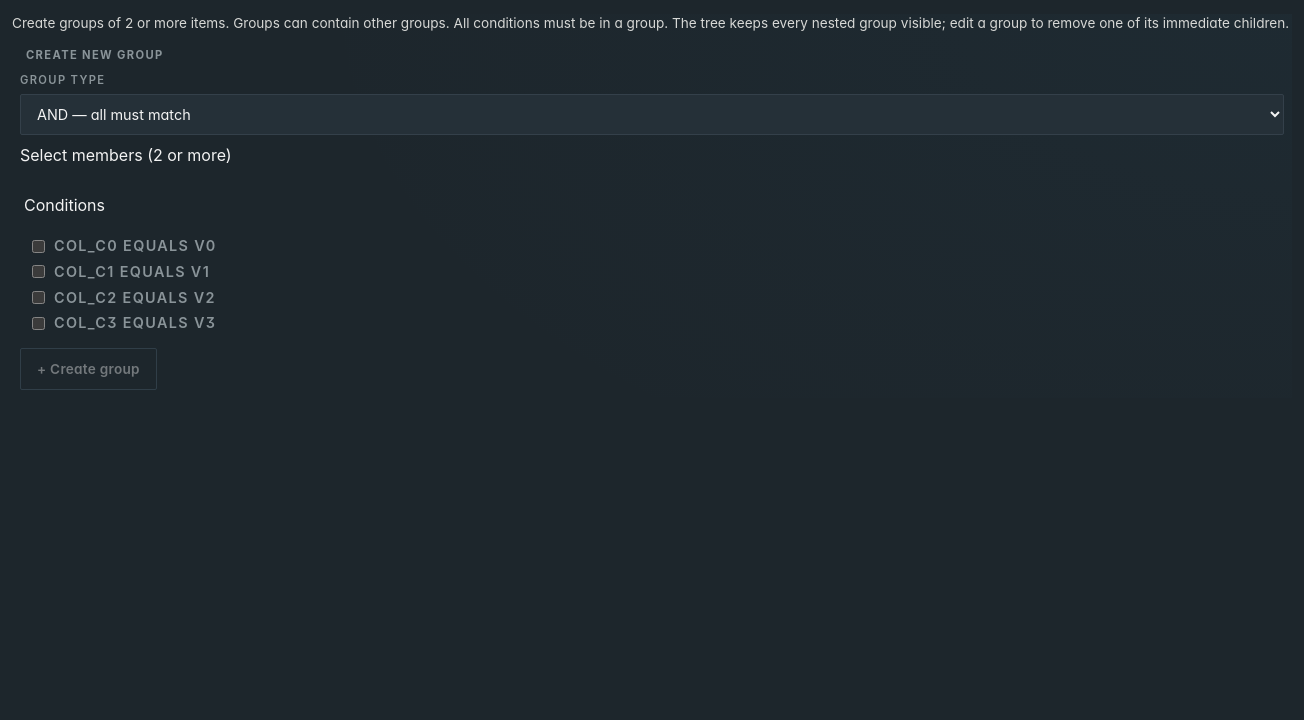
Scenario: GroupingTreeEditor (per_grouping) — multi-group behaviour › keeps both groups at root after the user creates two disjoint groups
Note: create Group 1 with c0 + c1
Click the checkbox labelled "col_c0 equals v0".
click(38, 246)  # box [32,240,45,253]
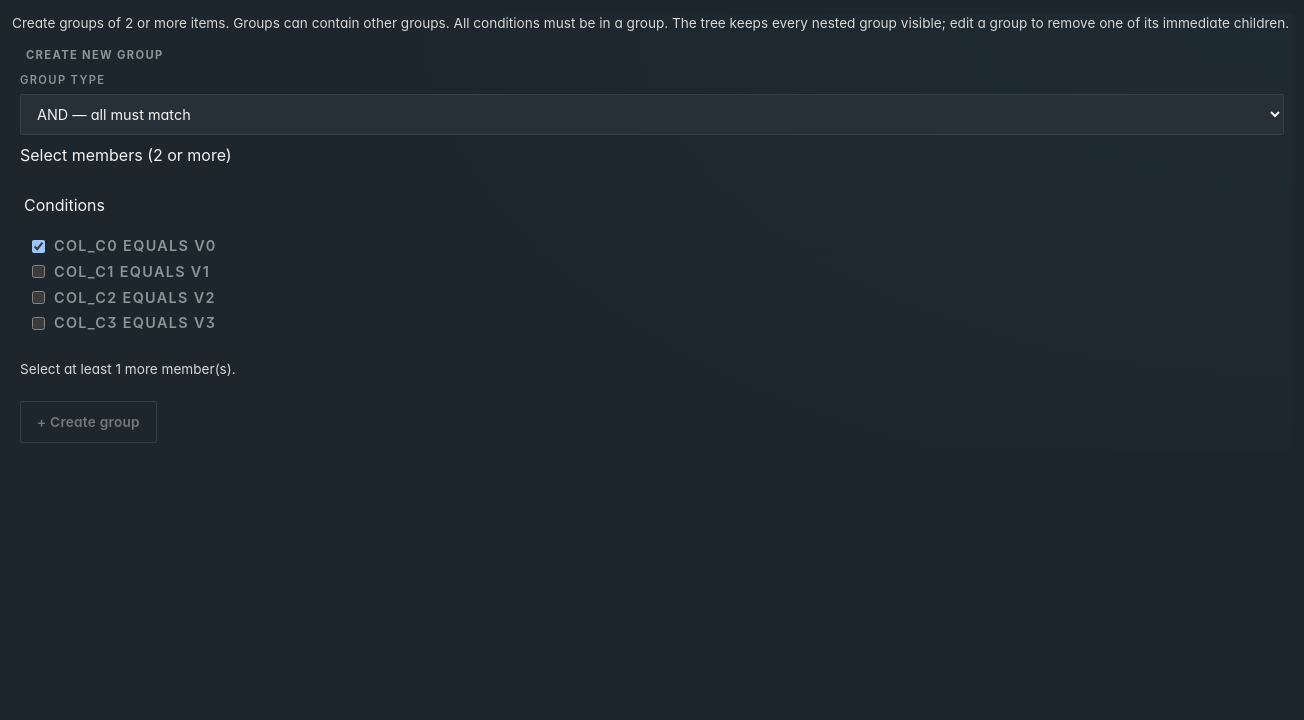
Click the checkbox labelled "col_c1 equals v1".
click(38, 272)  # box [32,265,45,278]
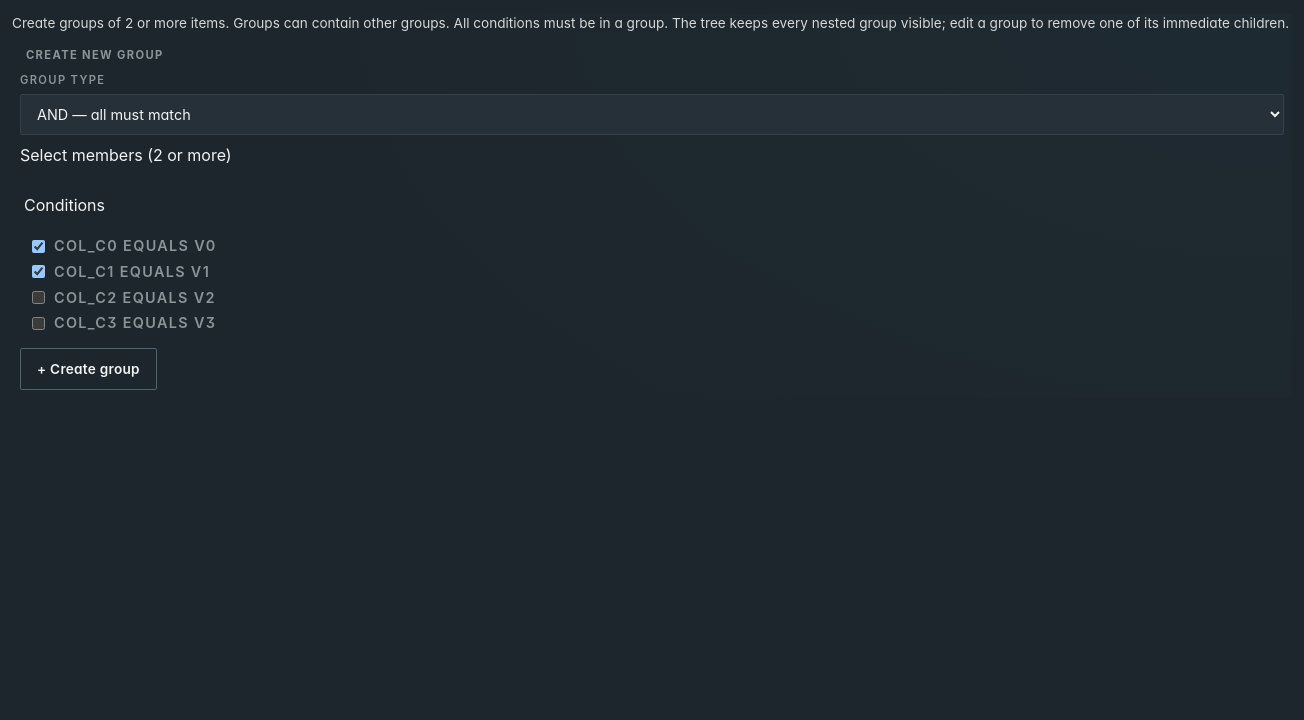
Click the button "+ Create group".
click(88, 369)  # box [20,348,157,390]
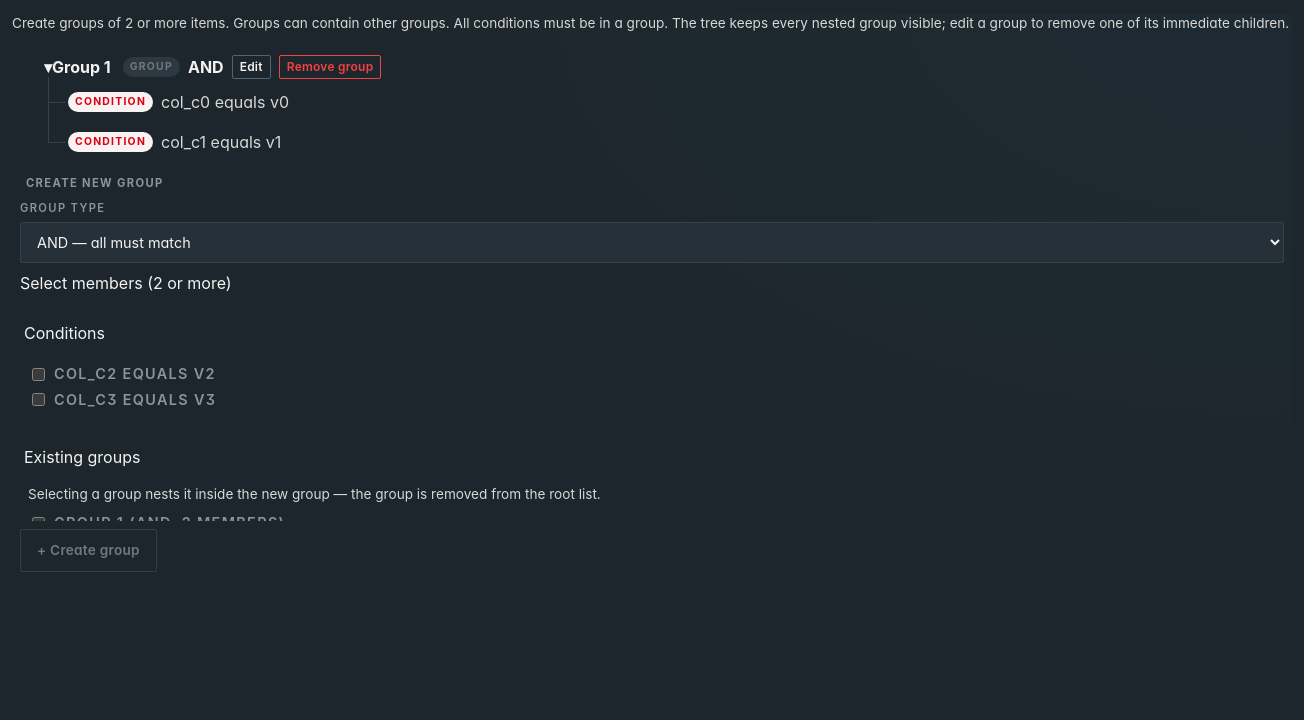
Check: the text "Group 2" is not shown
Check: the button "▾Group 1" is shown, box [40,53,115,81]
Note: create Group 2 with c2 + c3
Click the checkbox labelled "col_c2 equals v2".
click(38, 374)  # box [32,368,45,381]
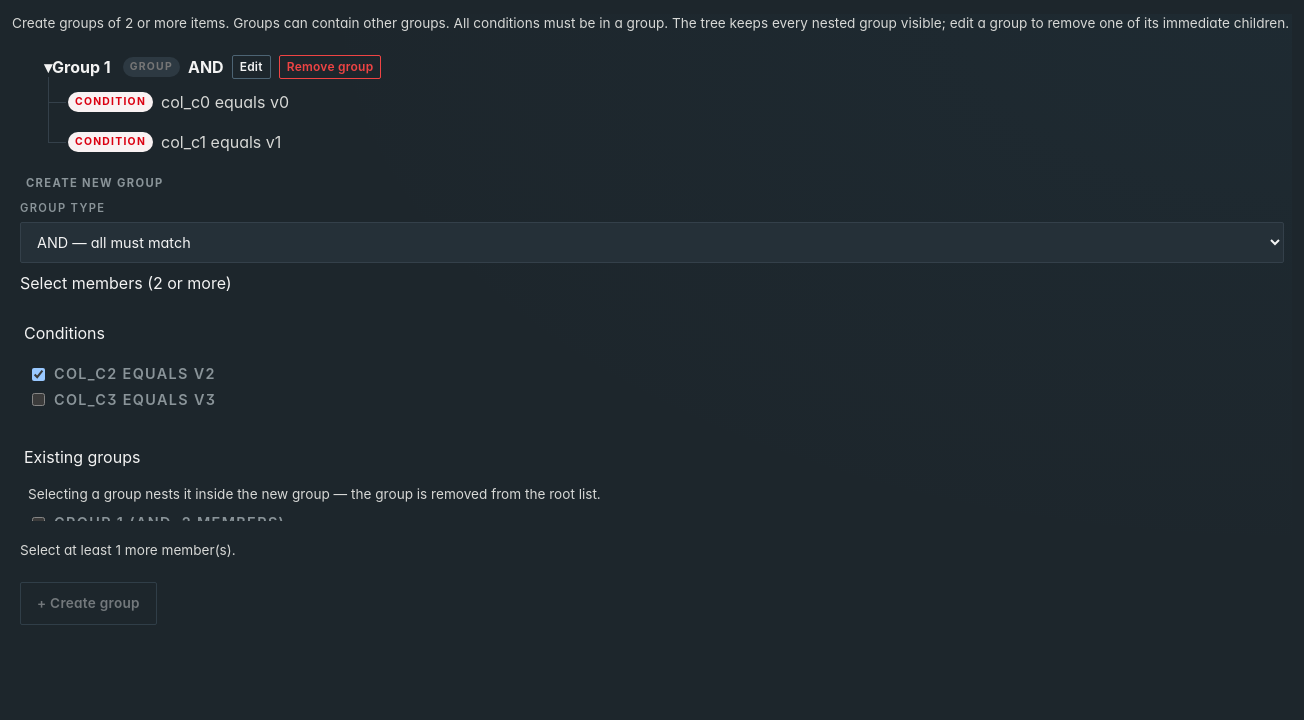
Click the checkbox labelled "col_c3 equals v3".
click(38, 400)  # box [32,393,45,406]
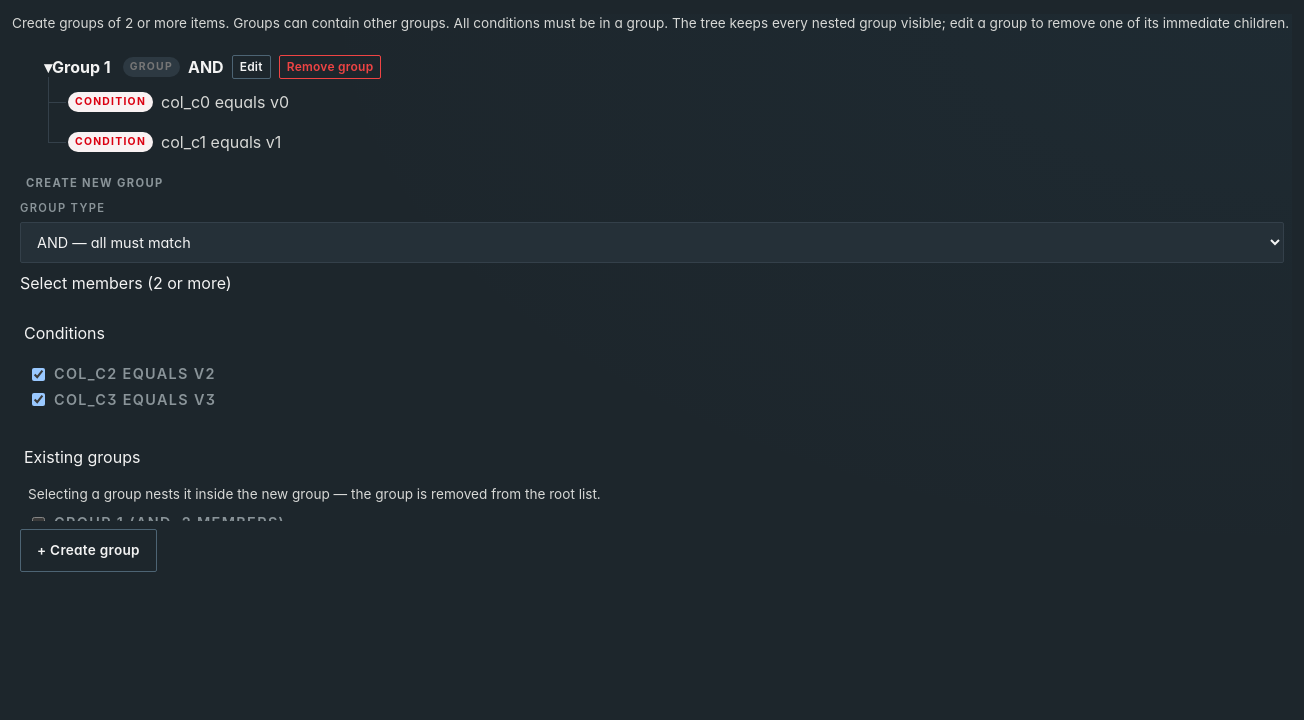
Click the button "+ Create group".
click(88, 551)  # box [20,530,157,572]
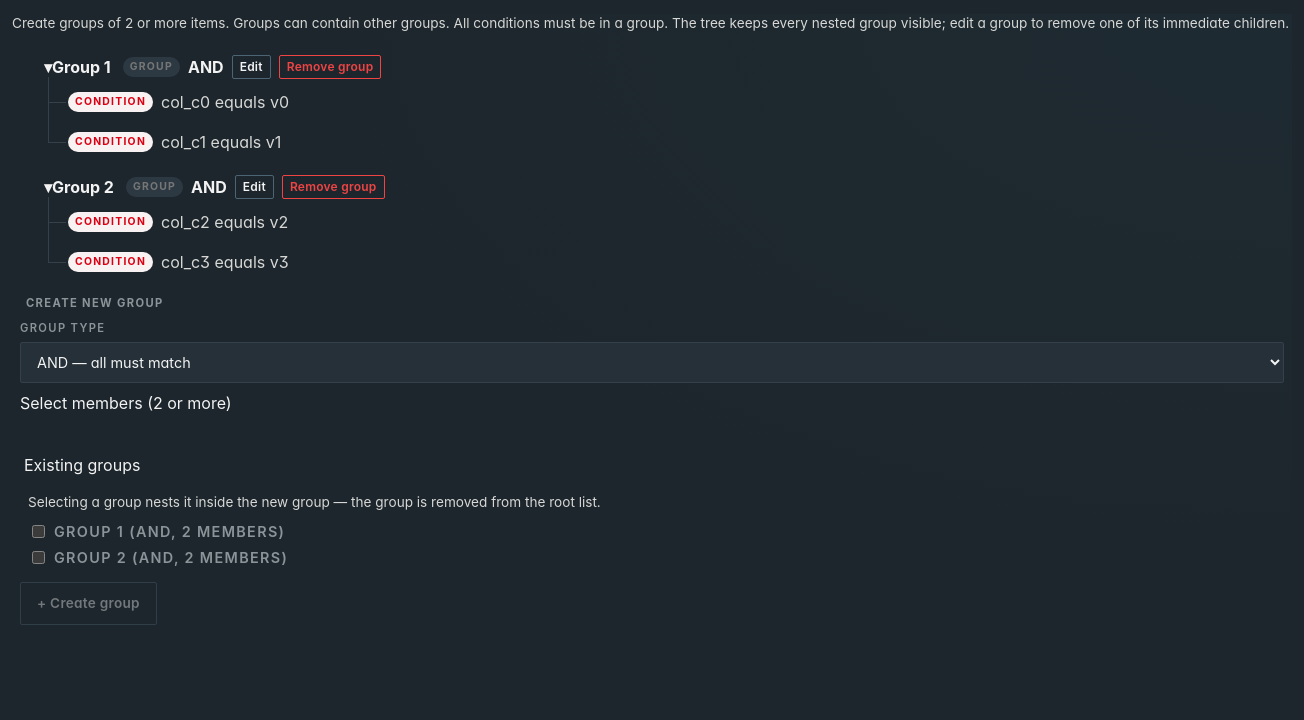
Check: the button "▾Group 1" is shown, box [40,53,115,81]
Check: the button "▾Group 2" is shown, box [40,173,118,201]
